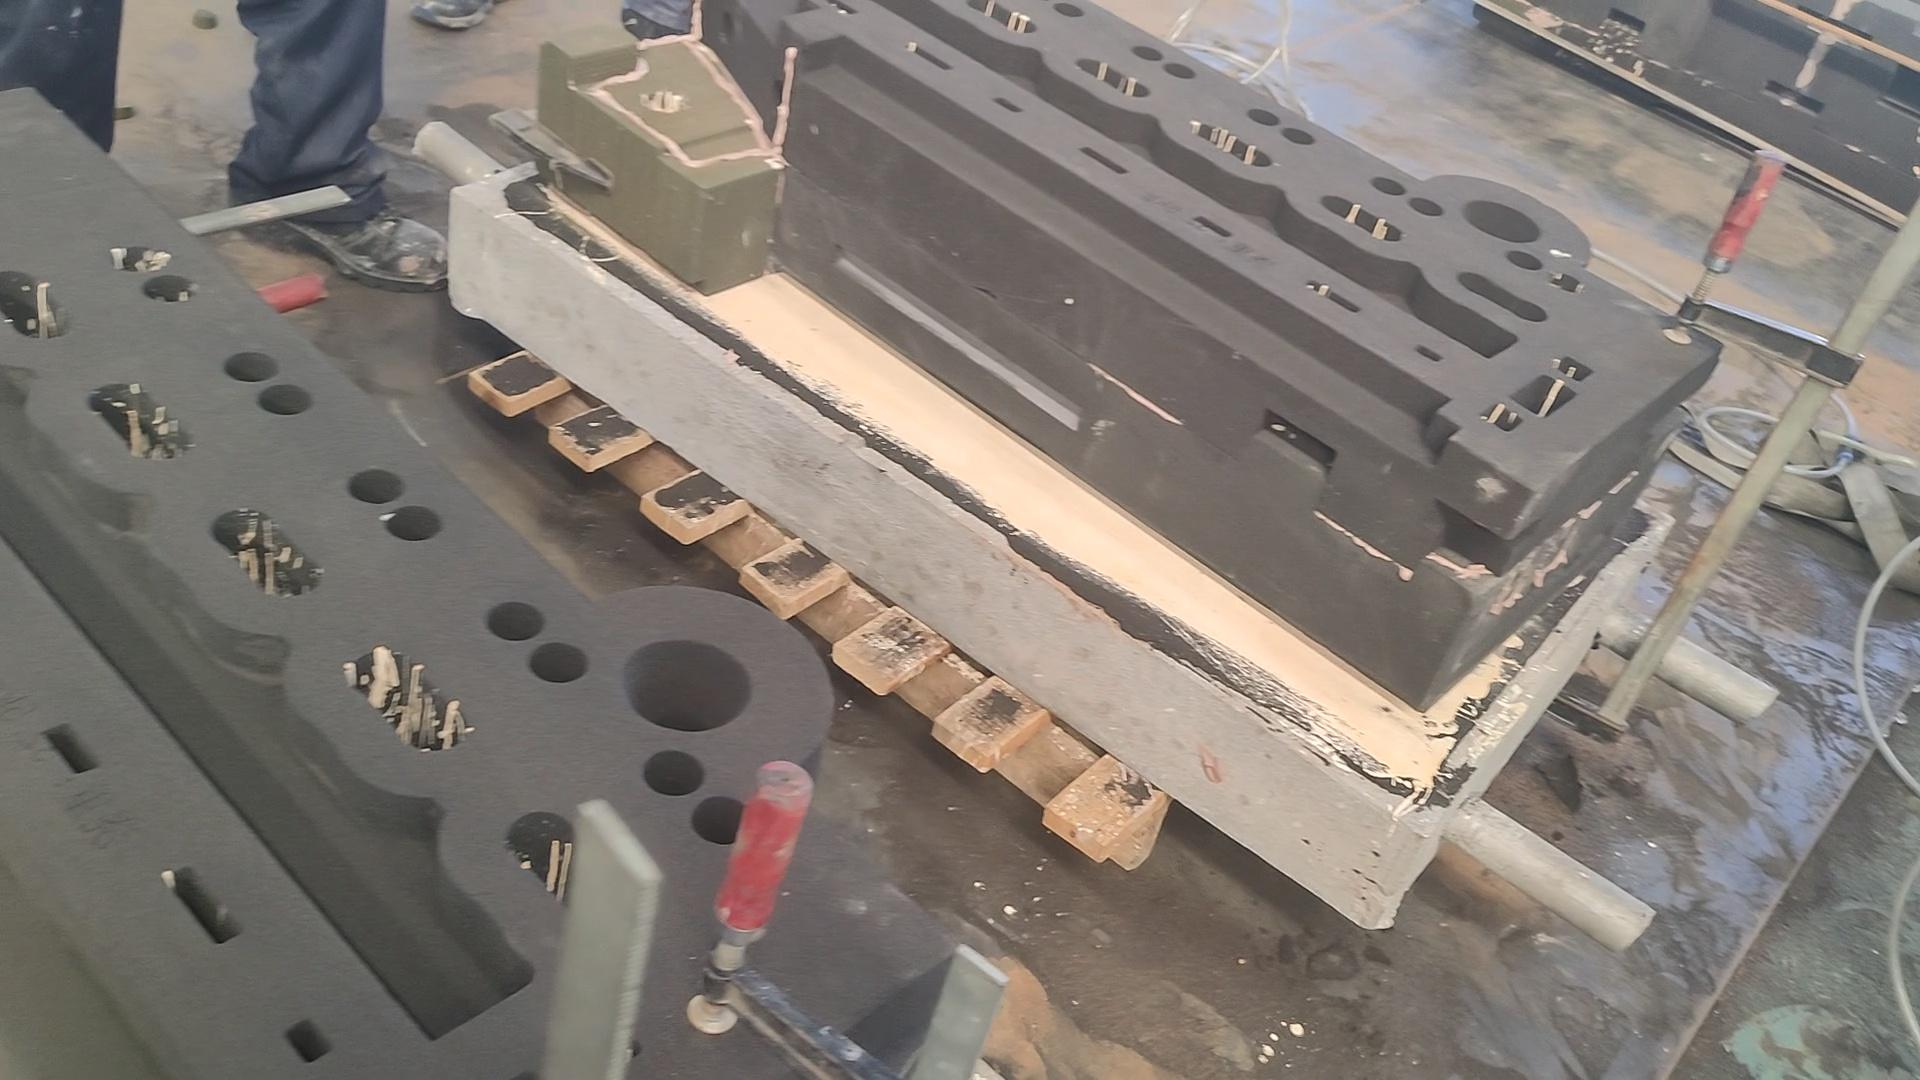pouring hole: (622, 640, 752, 731), (1462, 200, 1540, 243)
